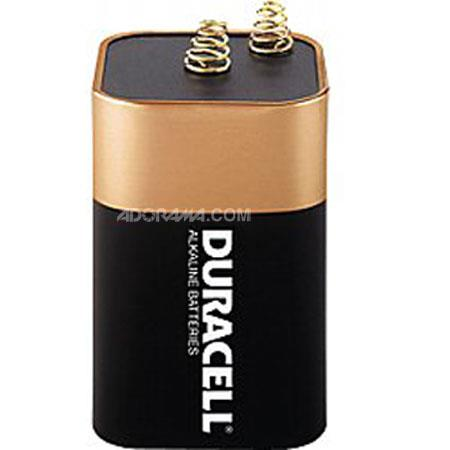6V: (72, 4, 340, 446)
